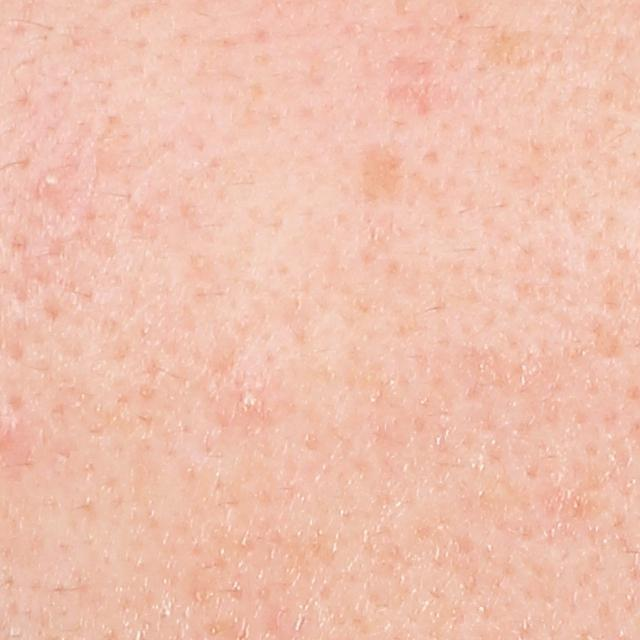atrophic_scar: (387, 52, 434, 83)
